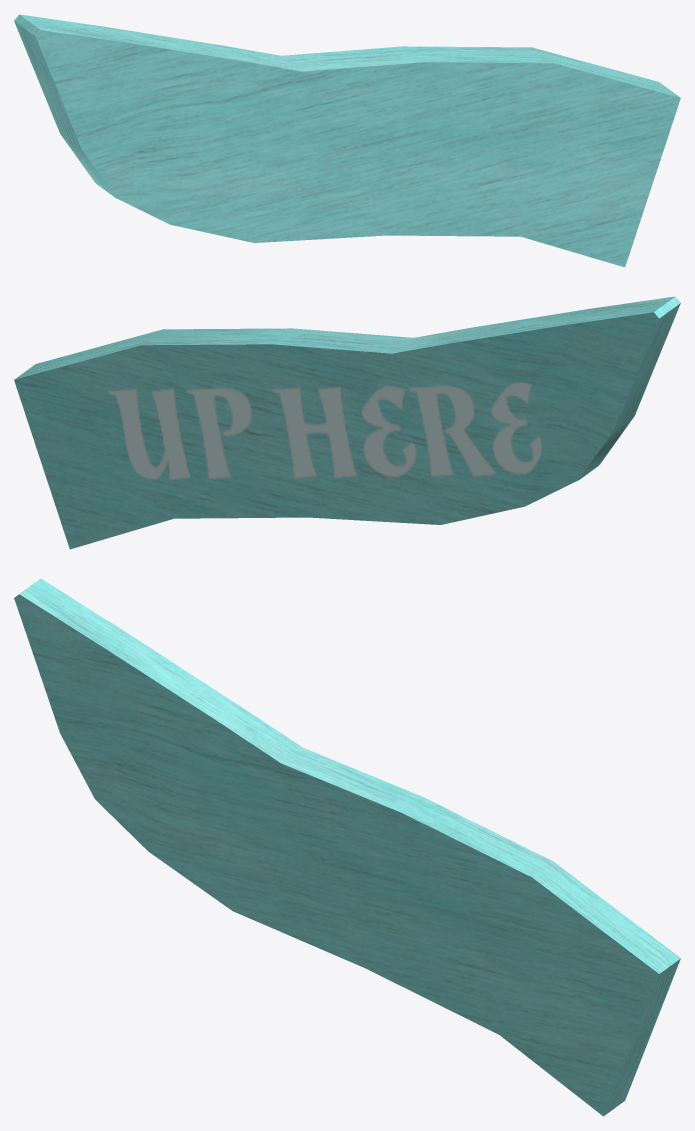
Rendered from sign2.fbx.
The picture shows the model from 3 angles, top to bottom: view 1: azimuth 30°, elevation 25°; view 2: azimuth 150°, elevation 25°; view 3: azimuth 330°, elevation 25°; orthographic projection.
Visible parts, largest first — view 1: sign2_geo; view 2: sign2_geo; view 3: sign2_geo.
Part boxes in pixels (x1=…): sign2_geo: x1=14, y1=14, x2=680, y2=267; sign2_geo: x1=14, y1=296, x2=680, y2=549; sign2_geo: x1=14, y1=578, x2=680, y2=1116.
Bounding box in the file's own units: 9.42 × 5.3 × 0.548.
